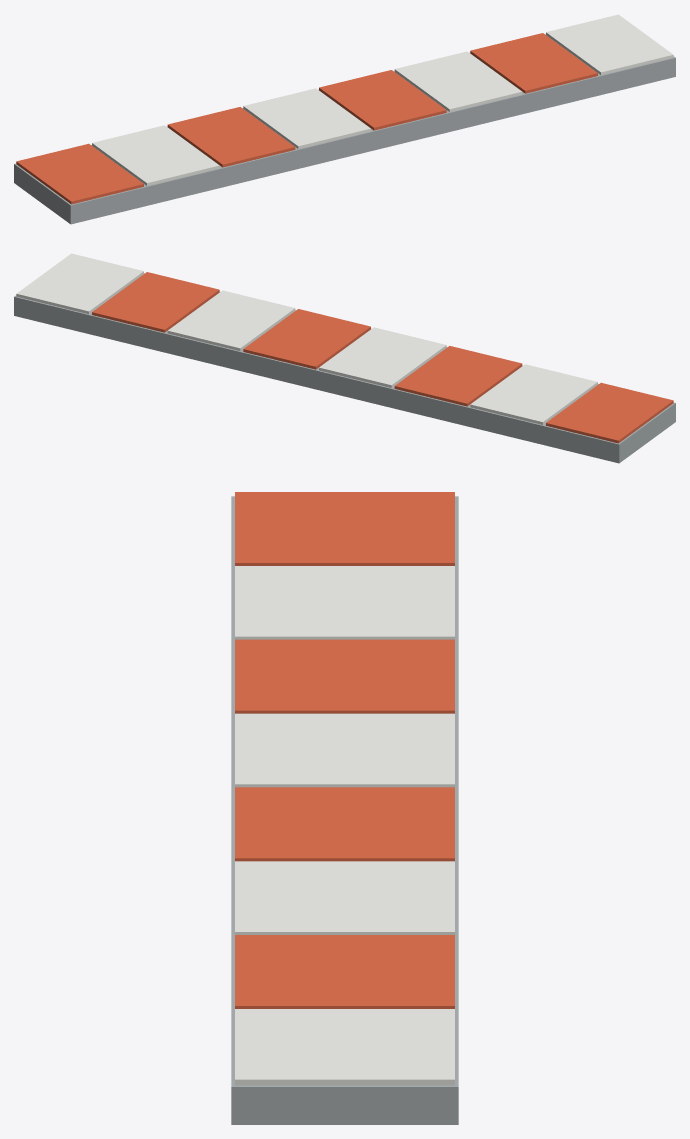
The model's file is grand-prix-circuit-and-open-wheel-straight-kerb-54fe27ad__15198.glb.
The picture shows the model from 3 angles, top to bottom: view 1: azimuth 30°, elevation 25°; view 2: azimuth 150°, elevation 25°; view 3: azimuth 270°, elevation 25°; orthographic projection. The views are drawn at different scales.
Parts seen in each view (by area): view 1: straight-kerb; view 2: straight-kerb; view 3: straight-kerb.
Part boxes in pixels (x1,y1,x2,y2): straight-kerb: (14,14,675,224); straight-kerb: (14,253,675,463); straight-kerb: (231,492,458,1124).
Bounding box in the file's own units: 4 × 0.138 × 0.6499.
